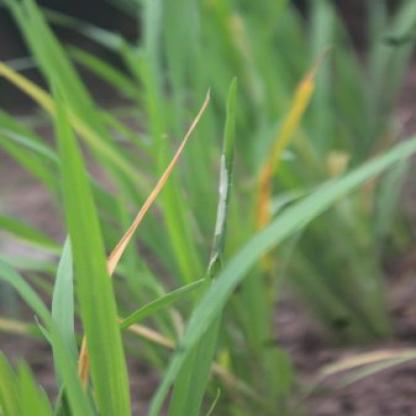Tungro: (98, 98, 217, 278), (237, 72, 325, 256)
